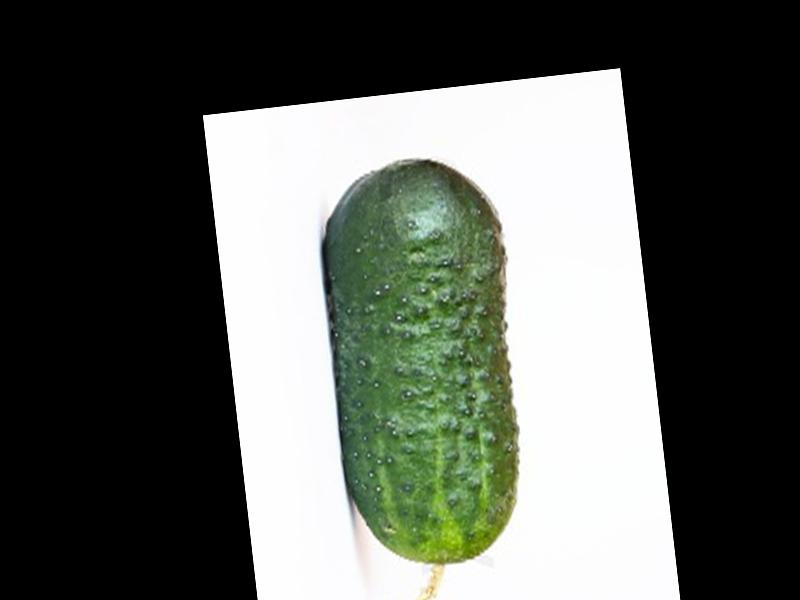Cucumber: (309, 151, 547, 600)
